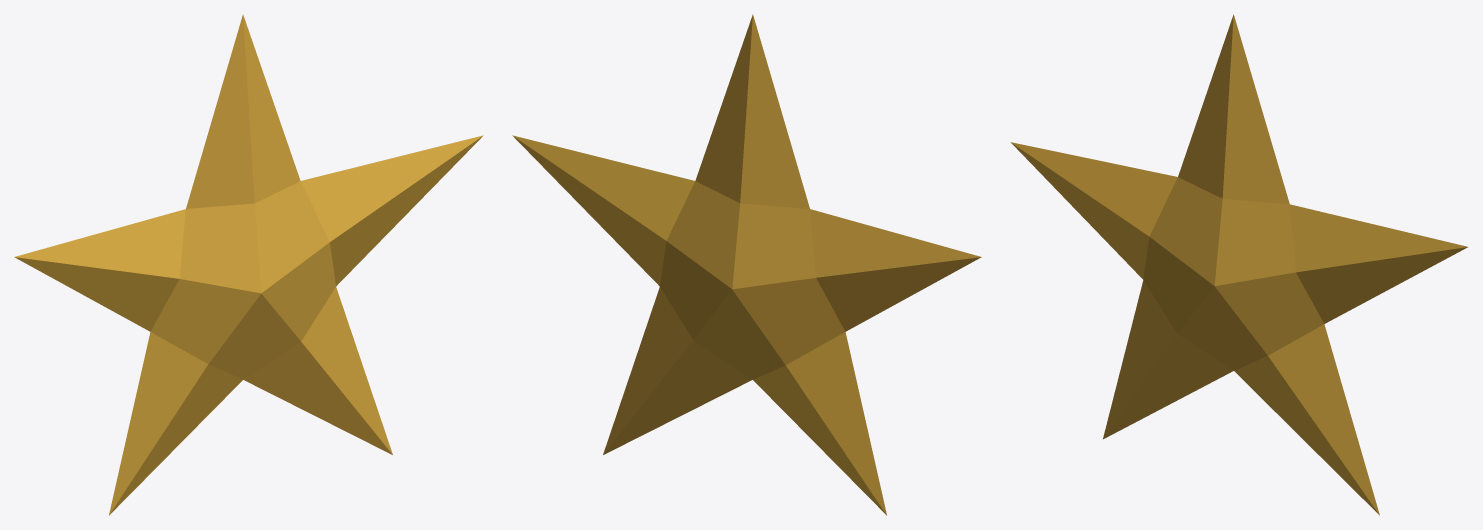
The model's file is star1.fbx.
3 views of the same model, side by side, from view 1: azimuth 30°, elevation 25°; view 2: azimuth 150°, elevation 25°; view 3: azimuth 330°, elevation 25° (orthographic). The views are drawn at different scales.
Parts seen in each view (by area): view 1: Cylinder; view 2: Cylinder; view 3: Cylinder.
Boxes of the visible parts, x1,y1,x2,y2 form: Cylinder: (14, 14, 483, 515); Cylinder: (512, 14, 981, 515); Cylinder: (1010, 14, 1467, 515).
Bounding box in the file's own units: 481 × 468 × 67.15.
